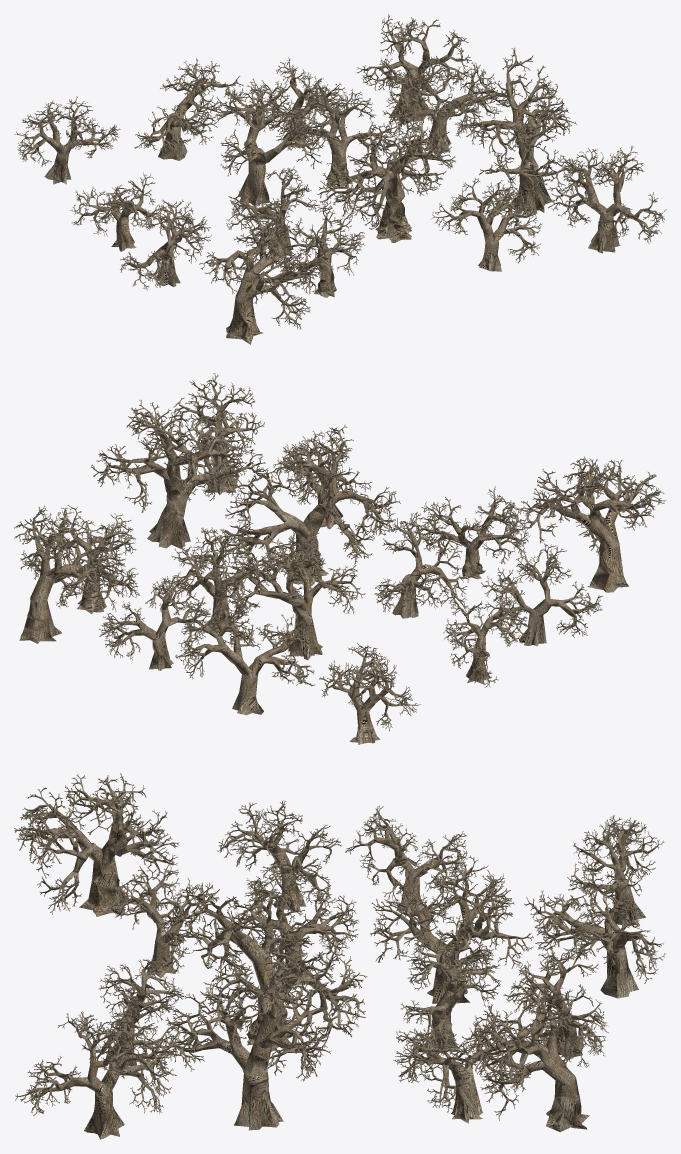
Rendered from oakpack.glb.
3 views of the same model, one above another, from view 1: azimuth 30°, elevation 25°; view 2: azimuth 150°, elevation 25°; view 3: azimuth 270°, elevation 25° (orthographic). The views are drawn at different scales.
Parts seen in each view (by area): view 1: Object_2; view 2: Object_2; view 3: Object_2.
Part boxes in pixels (left/top/right/bottom): Object_2: left=14, top=14, right=666, bottom=344; Object_2: left=14, top=373, right=666, bottom=744; Object_2: left=14, top=773, right=666, bottom=1139.
Bounding box in the file's own units: 25.92 × 7.66 × 25.28.
1 material, 1 textured.
